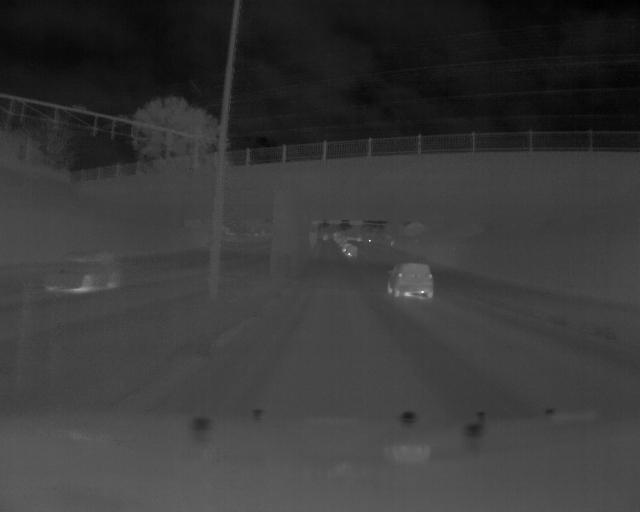car: (45, 249, 126, 298), (386, 260, 437, 298)
